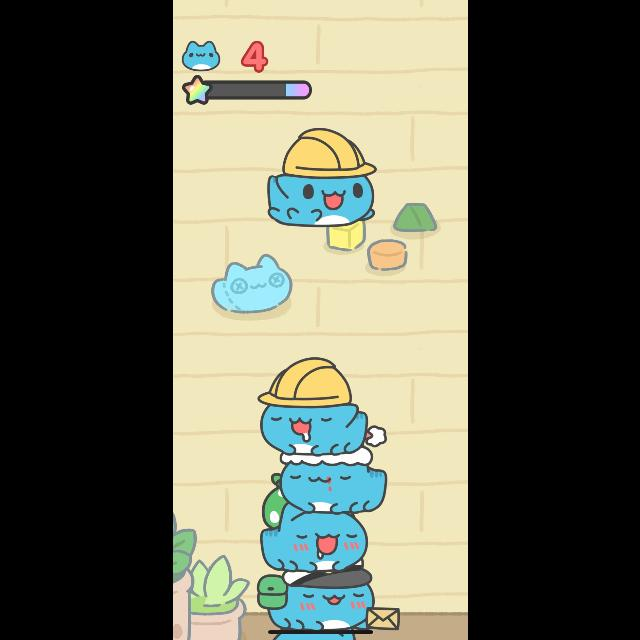capoo: (262, 128, 376, 226), (256, 362, 374, 456), (260, 572, 400, 634), (260, 511, 372, 573), (278, 452, 384, 514)
